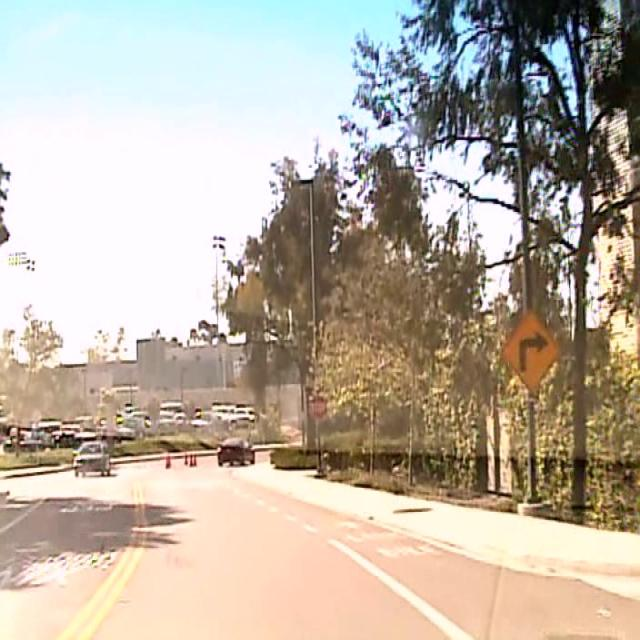stop: (308, 393, 326, 419)
